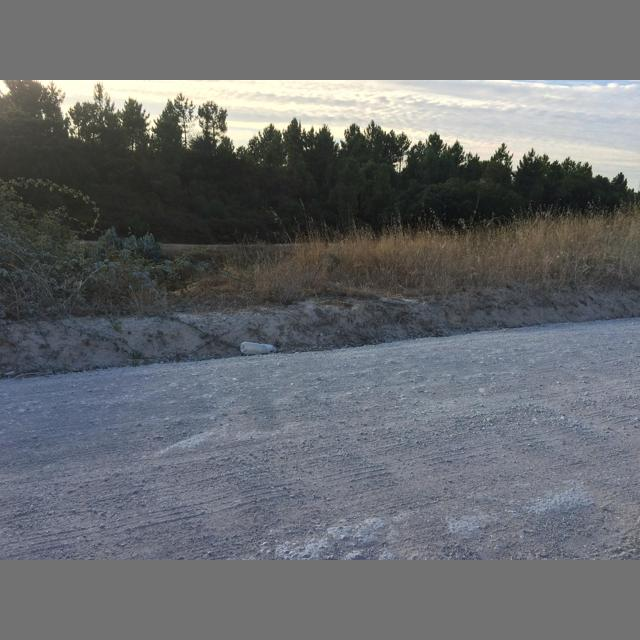litter: (240, 342, 277, 354)
